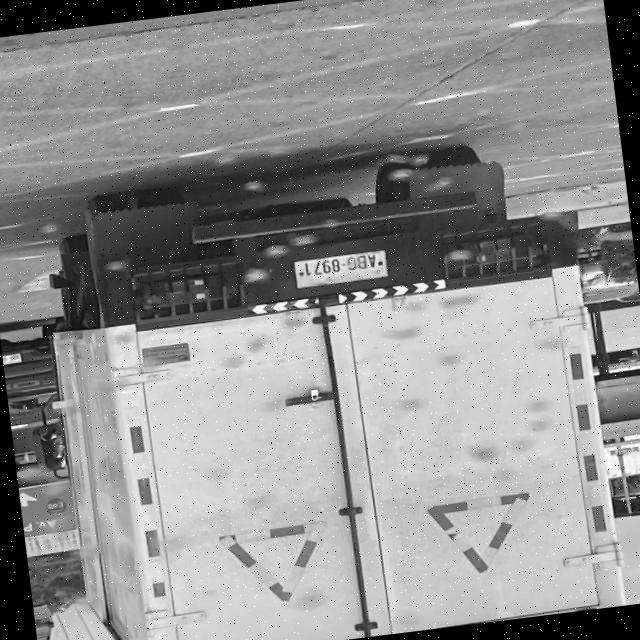Placa: (293, 249, 387, 287), (2, 353, 21, 362)
